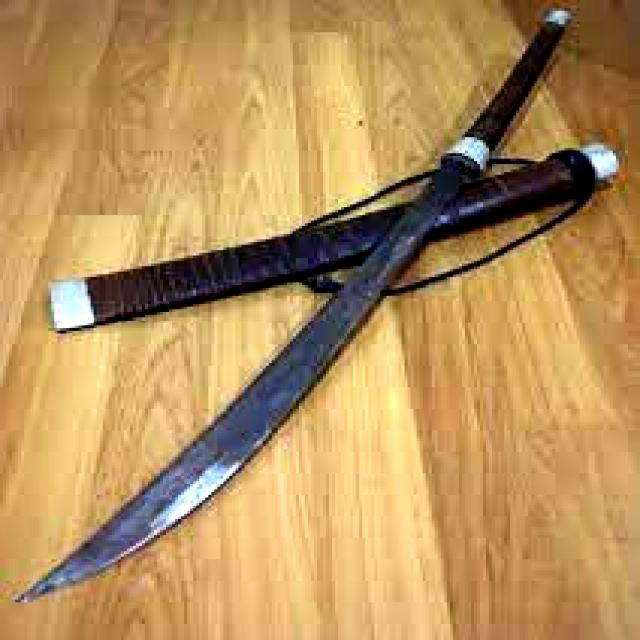long sword: (17, 7, 572, 590)
